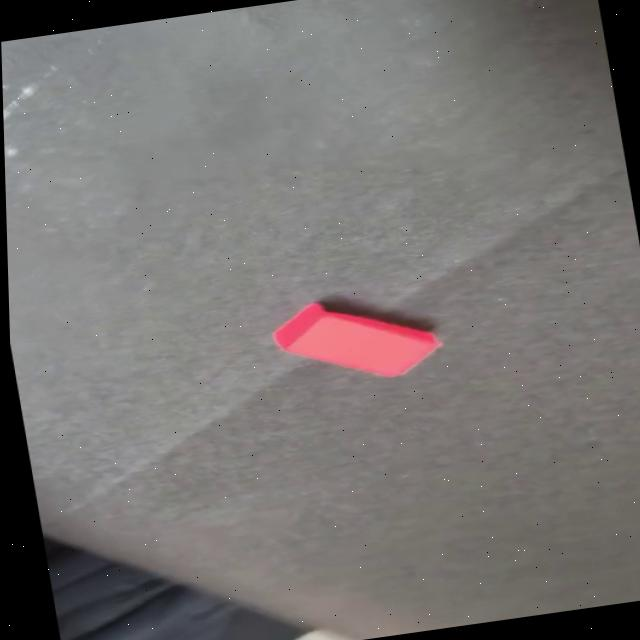red block: (267, 286, 449, 395)
